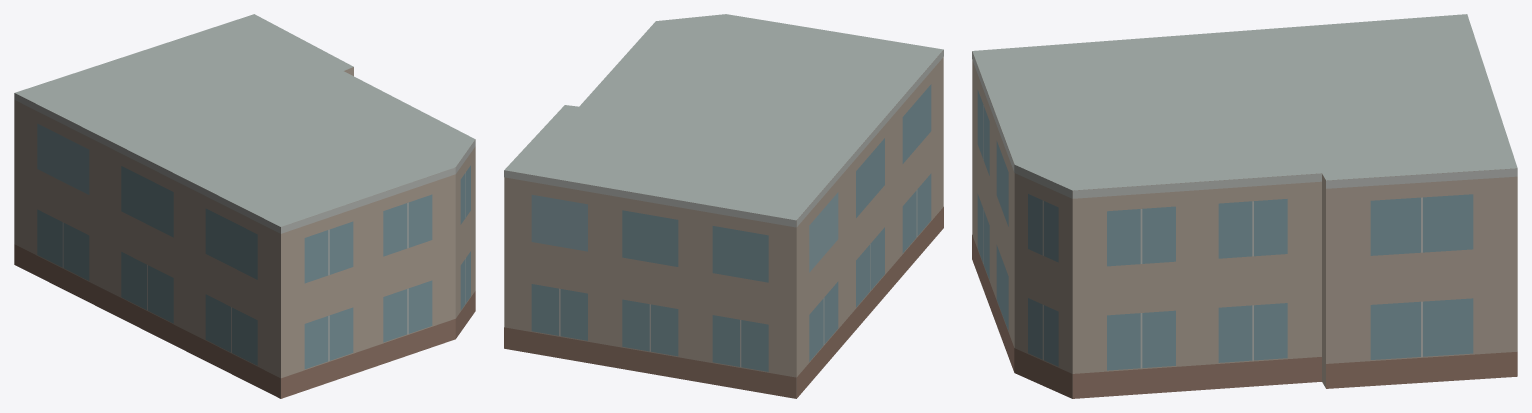
The model's file is survey-upis-32719543.glb.
3 views of the same model, side by side, from view 1: azimuth 30°, elevation 25°; view 2: azimuth 150°, elevation 25°; view 3: azimuth 270°, elevation 25° (orthographic). The views are drawn at different scales.
Parts seen in each view (by area): view 1: survey-upis-32719543.tmp; view 2: survey-upis-32719543.tmp; view 3: survey-upis-32719543.tmp.
Boxes of the visible parts, bbox=[...] form: survey-upis-32719543.tmp: bbox=[14, 14, 475, 398]; survey-upis-32719543.tmp: bbox=[504, 14, 943, 398]; survey-upis-32719543.tmp: bbox=[972, 14, 1517, 398].
Bounding box in the file's own units: 11.09 × 6.1 × 14.49.
